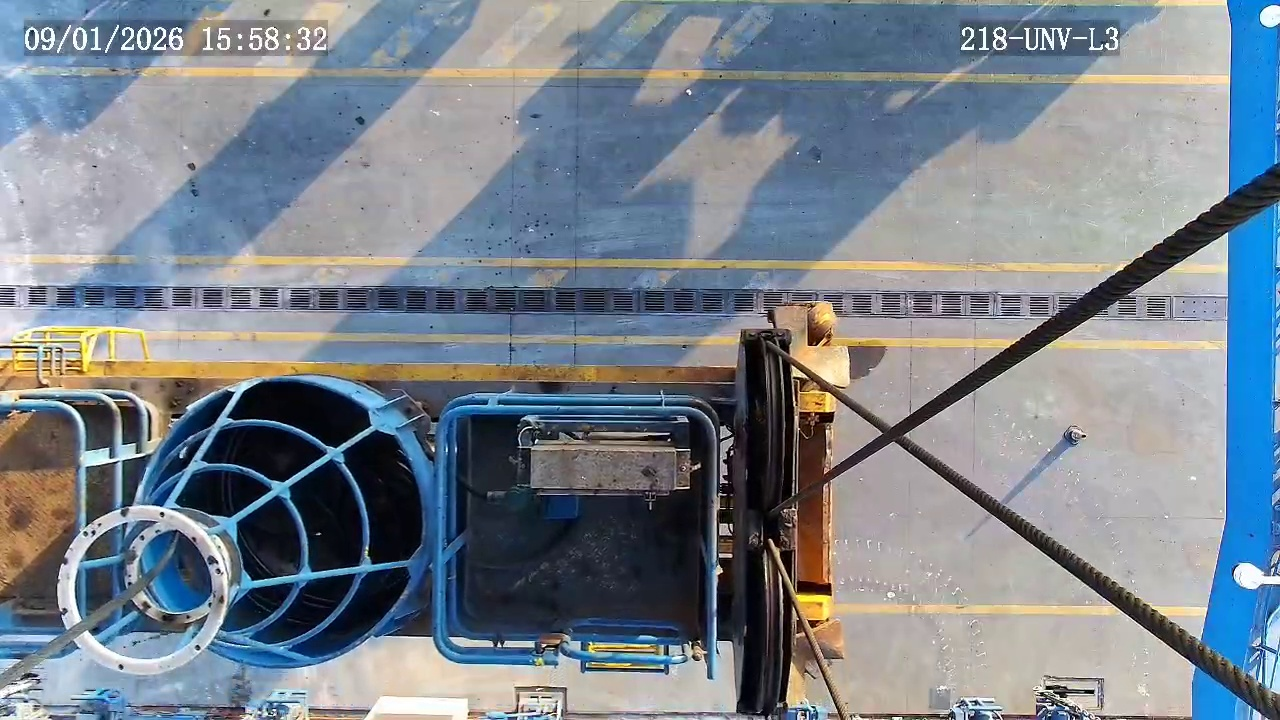right: (122, 378, 428, 668)
